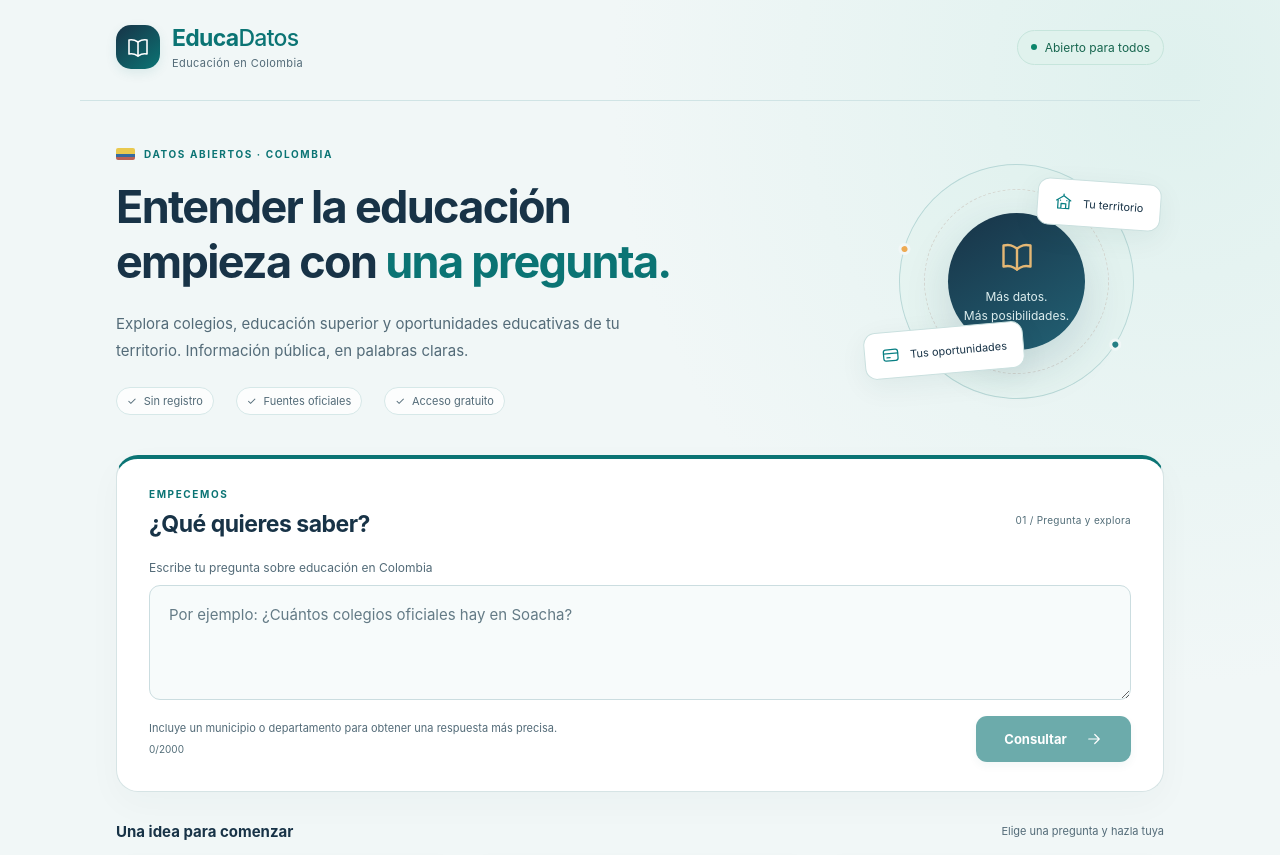
Test: permite consultar el código DANE de un colegio y buscar por ese identificador
The width and height of the screenshot is (1280, 855).
Type "Colegios en Villavicencio" into the text box labelled "Escribe tu pregunta sobre educación en Colombia".
click(640, 642); type("Colegios en Villavicencio")  # box [149,585,1131,700]
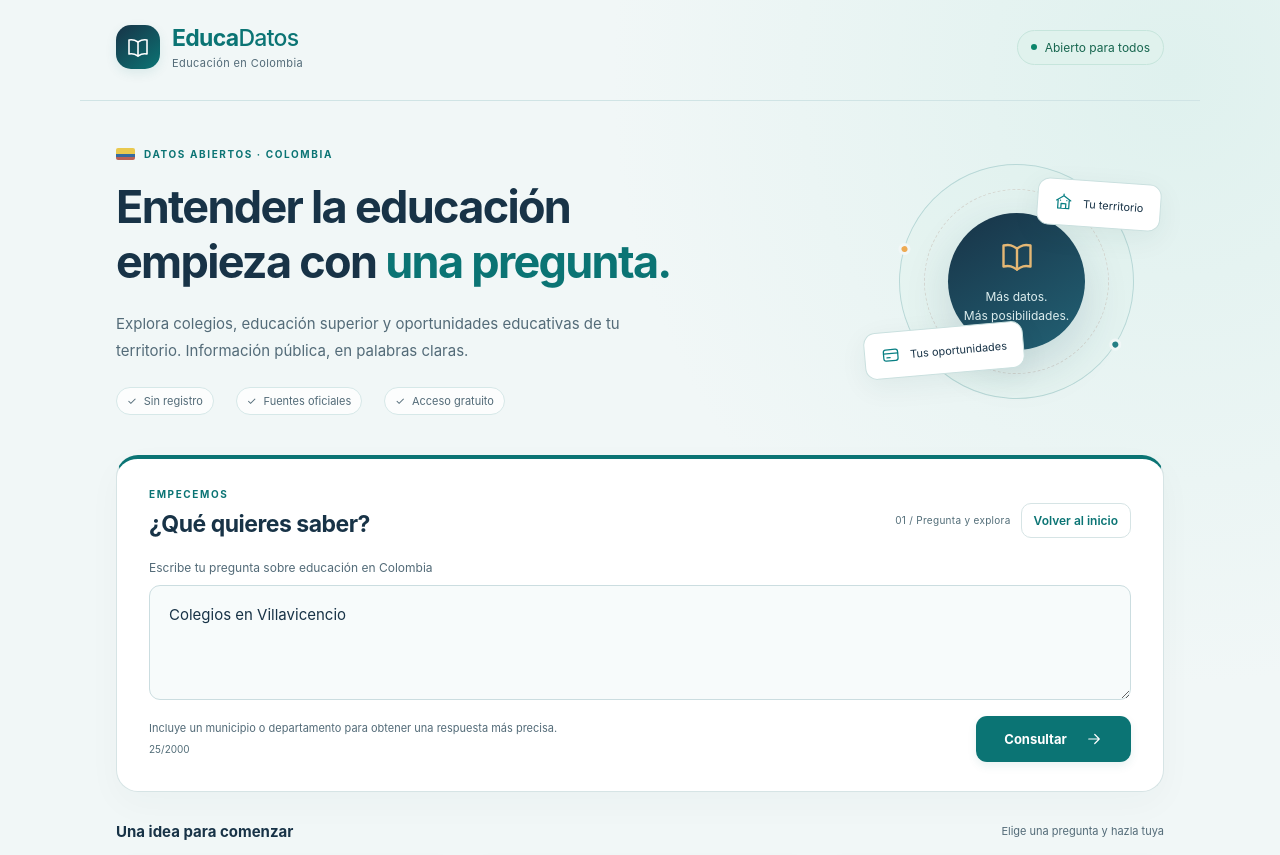
Click the button "Consultar".
click(1054, 739)  # box [976,716,1131,762]
(page scrolled)
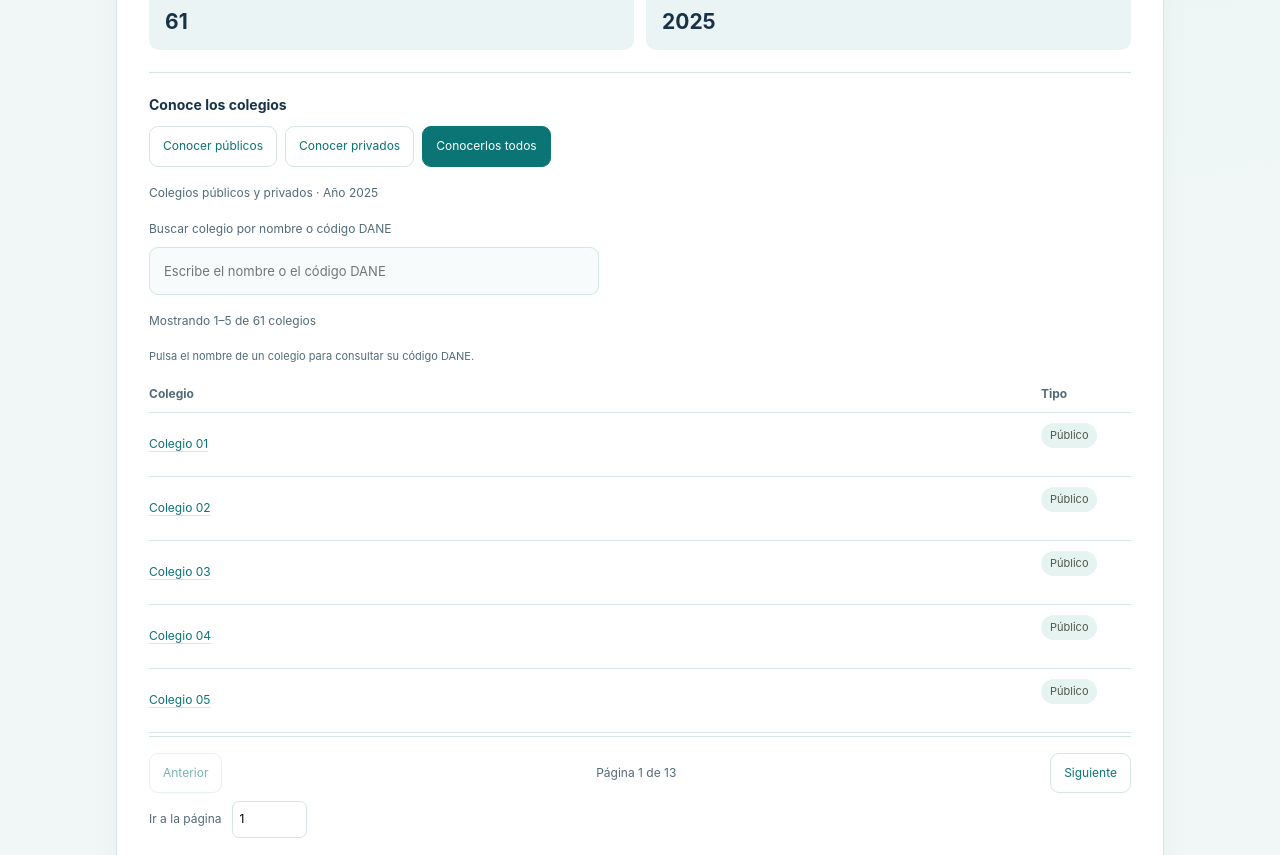
Expected: the list named "Listado de colegios" is shown, [149,413,1131,733]
Click the button with aria-label "Consultar código DANE de Colegio 01".
click(179, 444)  # box [149,434,1025,454]
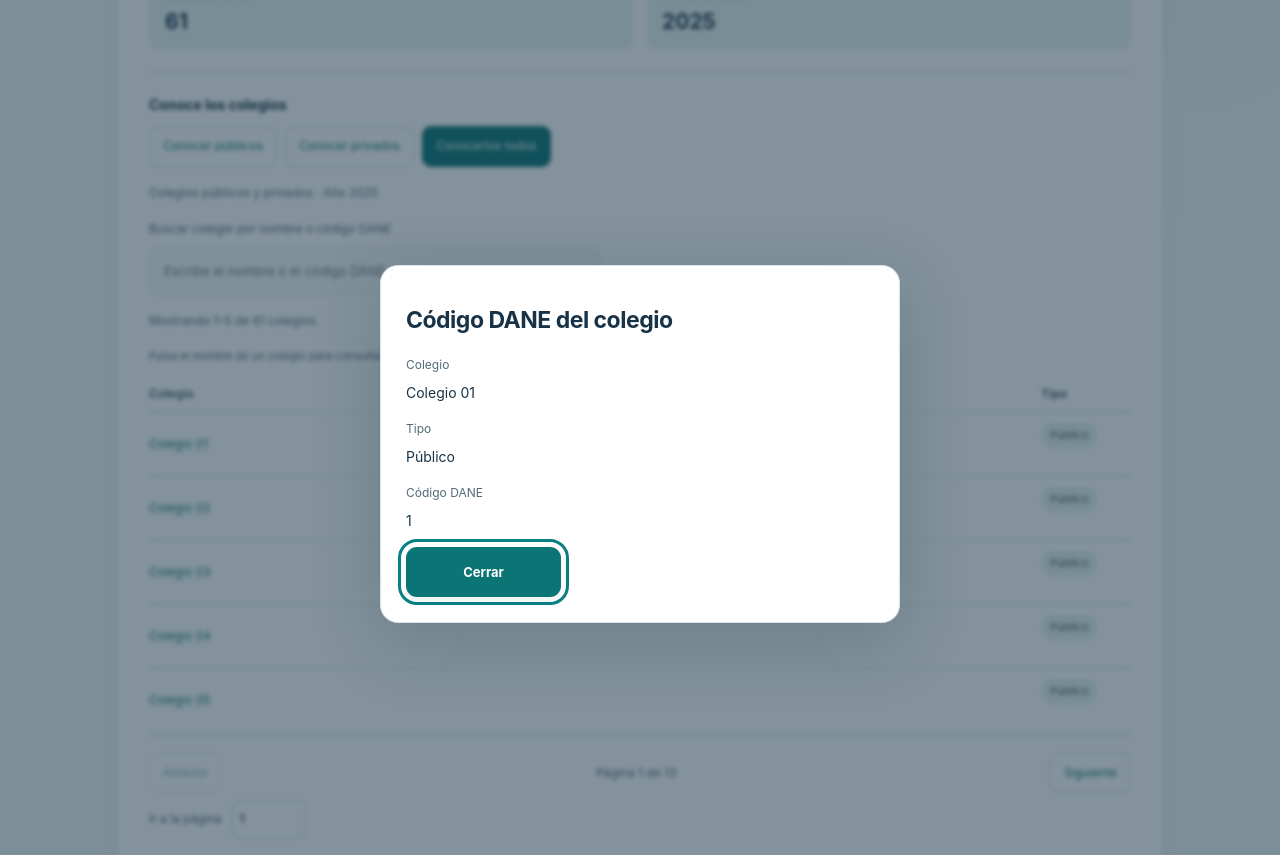
Expected: the dialog "Código DANE del colegio" is shown, [380,265,900,623]
Expected: the text "Código DANE" is shown, [406,485,483,500]
Expected: the text "1" is shown, [406,512,412,530]
Click the button "Cerrar".
click(484, 572)  # box [406,547,561,597]
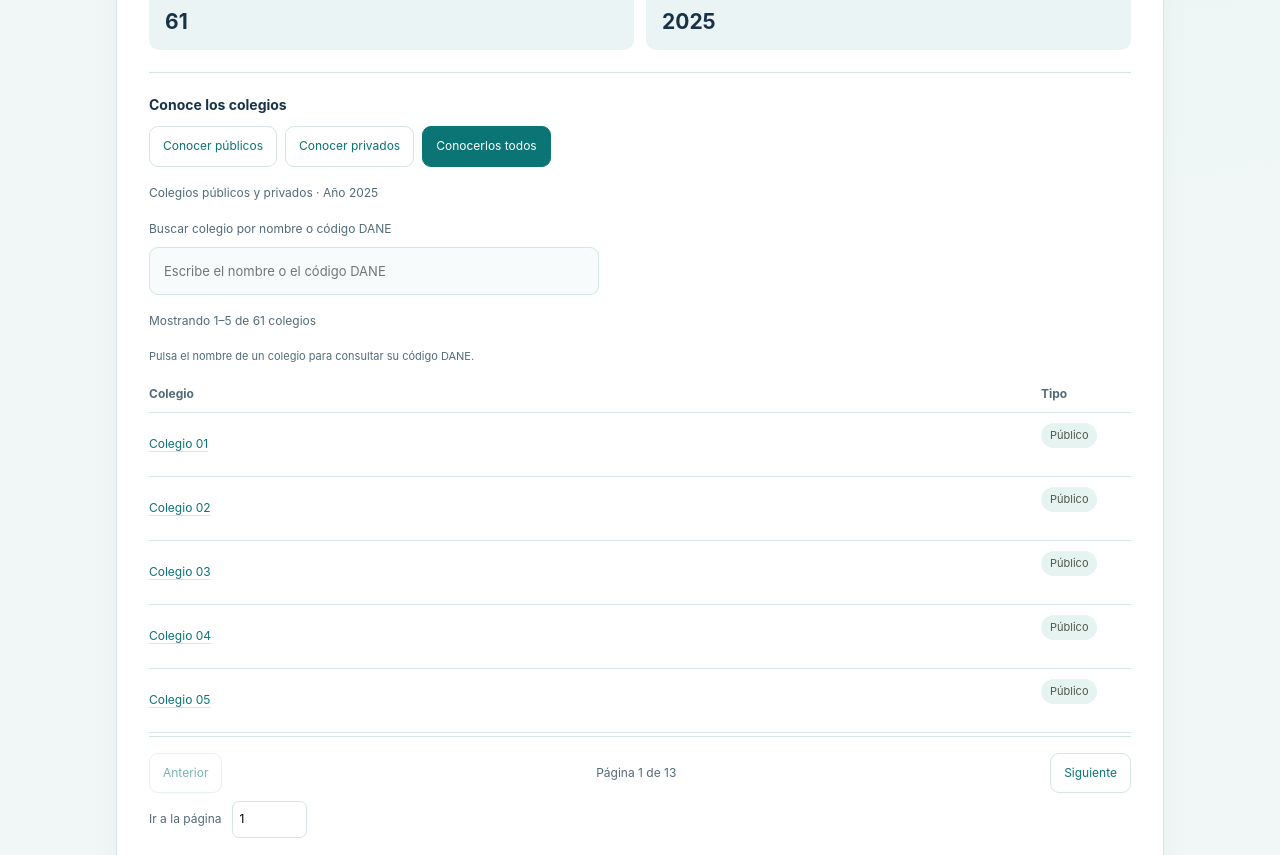
Expected: the dialog is gone
Type "61" into the search field labelled "Buscar colegio por nombre o código DANE".
click(374, 271); type("61")  # box [149,247,599,295]
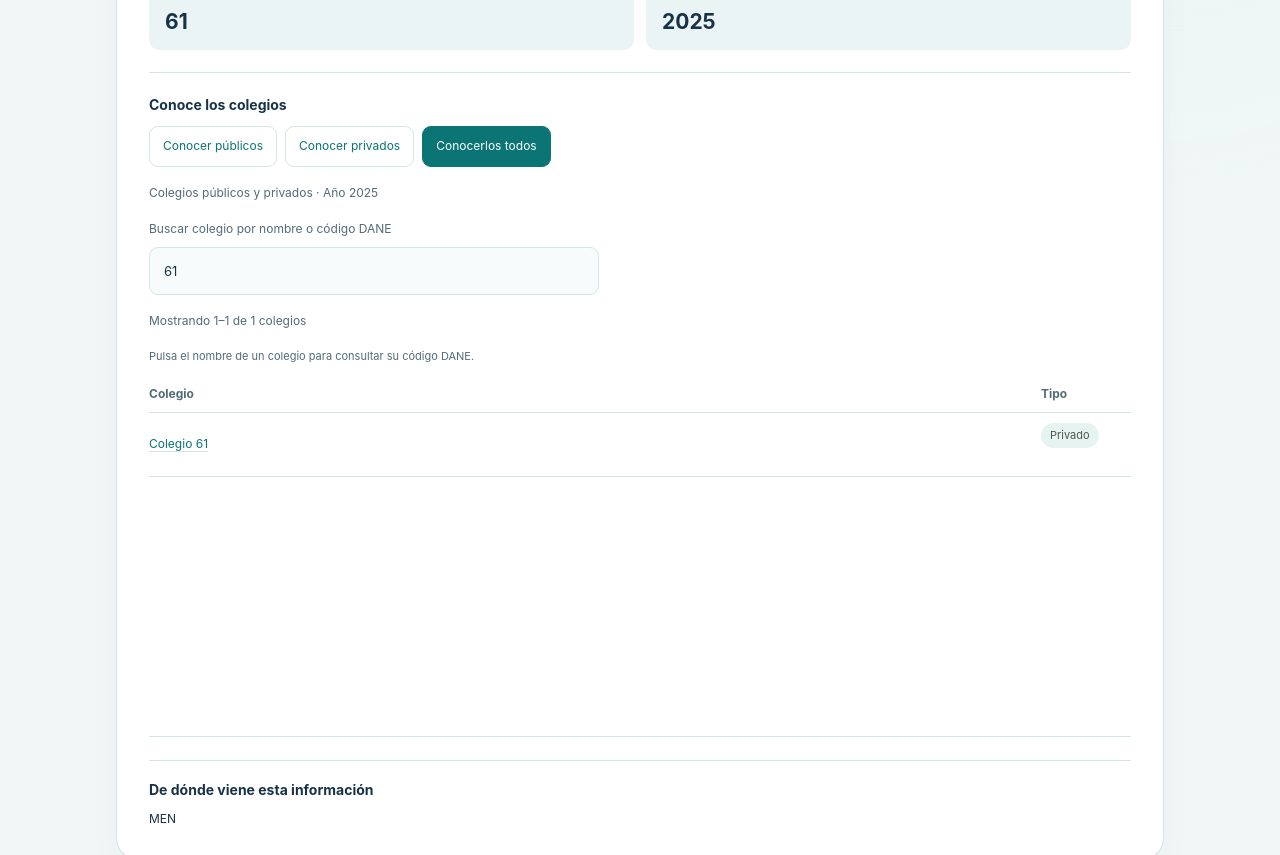
Expected: the button with aria-label "Consultar código DANE de Colegio 61" is shown, [149,434,1025,454]
